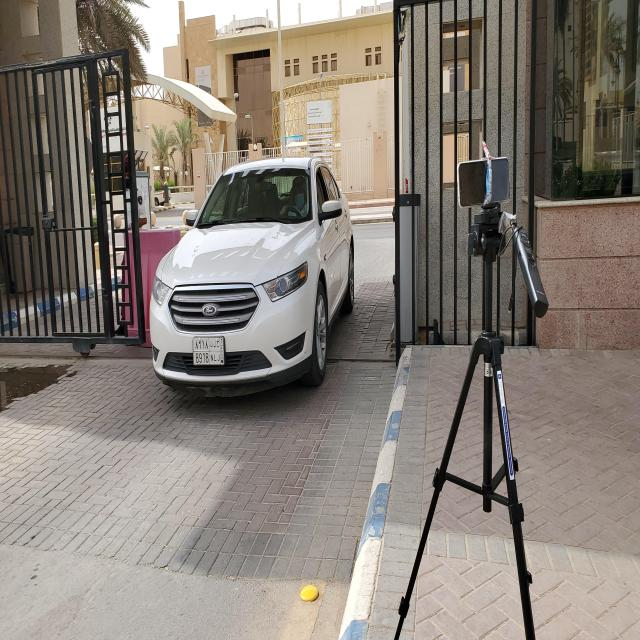license_plate: (190, 334, 227, 372)
